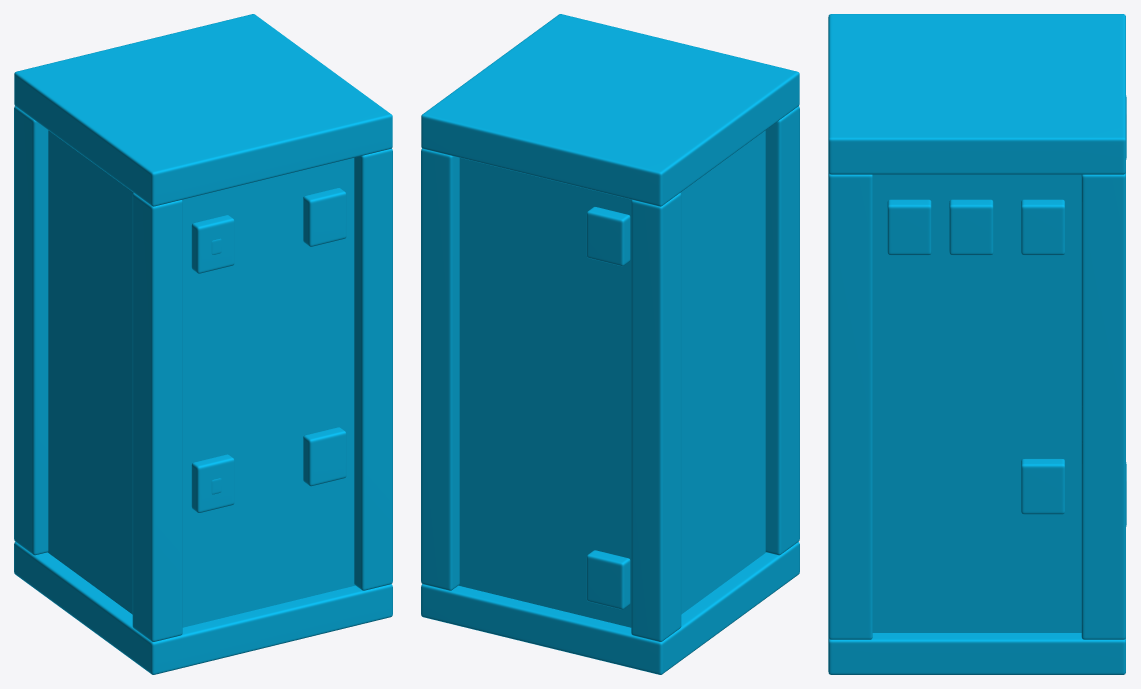
File: SM_Clay_Body_06.fbx
3 views of the same model, side by side, from view 1: azimuth 30°, elevation 25°; view 2: azimuth 150°, elevation 25°; view 3: azimuth 270°, elevation 25° (orthographic). The views are drawn at different scales.
Parts seen in each view (by area): view 1: Cube.165_Piece.007_Piece.017; view 2: Cube.165_Piece.007_Piece.017; view 3: Cube.165_Piece.007_Piece.017.
Boxes of the visible parts, x1,y1,x2,y2 form: Cube.165_Piece.007_Piece.017: (14, 14, 392, 674); Cube.165_Piece.007_Piece.017: (421, 14, 799, 674); Cube.165_Piece.007_Piece.017: (828, 14, 1126, 674).
Bounding box in the file's own units: 2.5 × 4.98 × 2.5.
